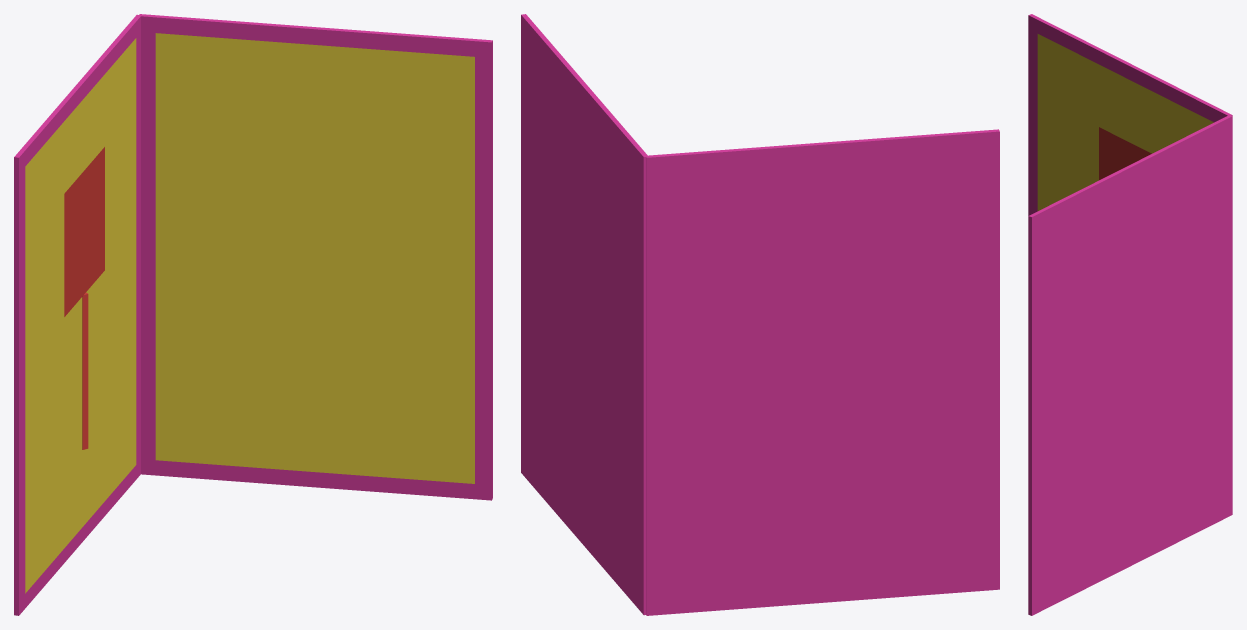
The model's file is Birthday_Card.fbx.
3 views of the same model, side by side, from view 1: azimuth 30°, elevation 25°; view 2: azimuth 150°, elevation 25°; view 3: azimuth 270°, elevation 25° (orthographic). The views are drawn at different scales.
Visible parts, largest first — view 1: Birthday_Card; view 2: Birthday_Card; view 3: Birthday_Card.
Boxes of the visible parts, x1=… form: Birthday_Card: x1=14, y1=14, x2=492, y2=615; Birthday_Card: x1=521, y1=14, x2=999, y2=615; Birthday_Card: x1=1028, y1=14, x2=1232, y2=615.
Size of the model in its own units: 0.1618 by 0.148 by 0.0686.
